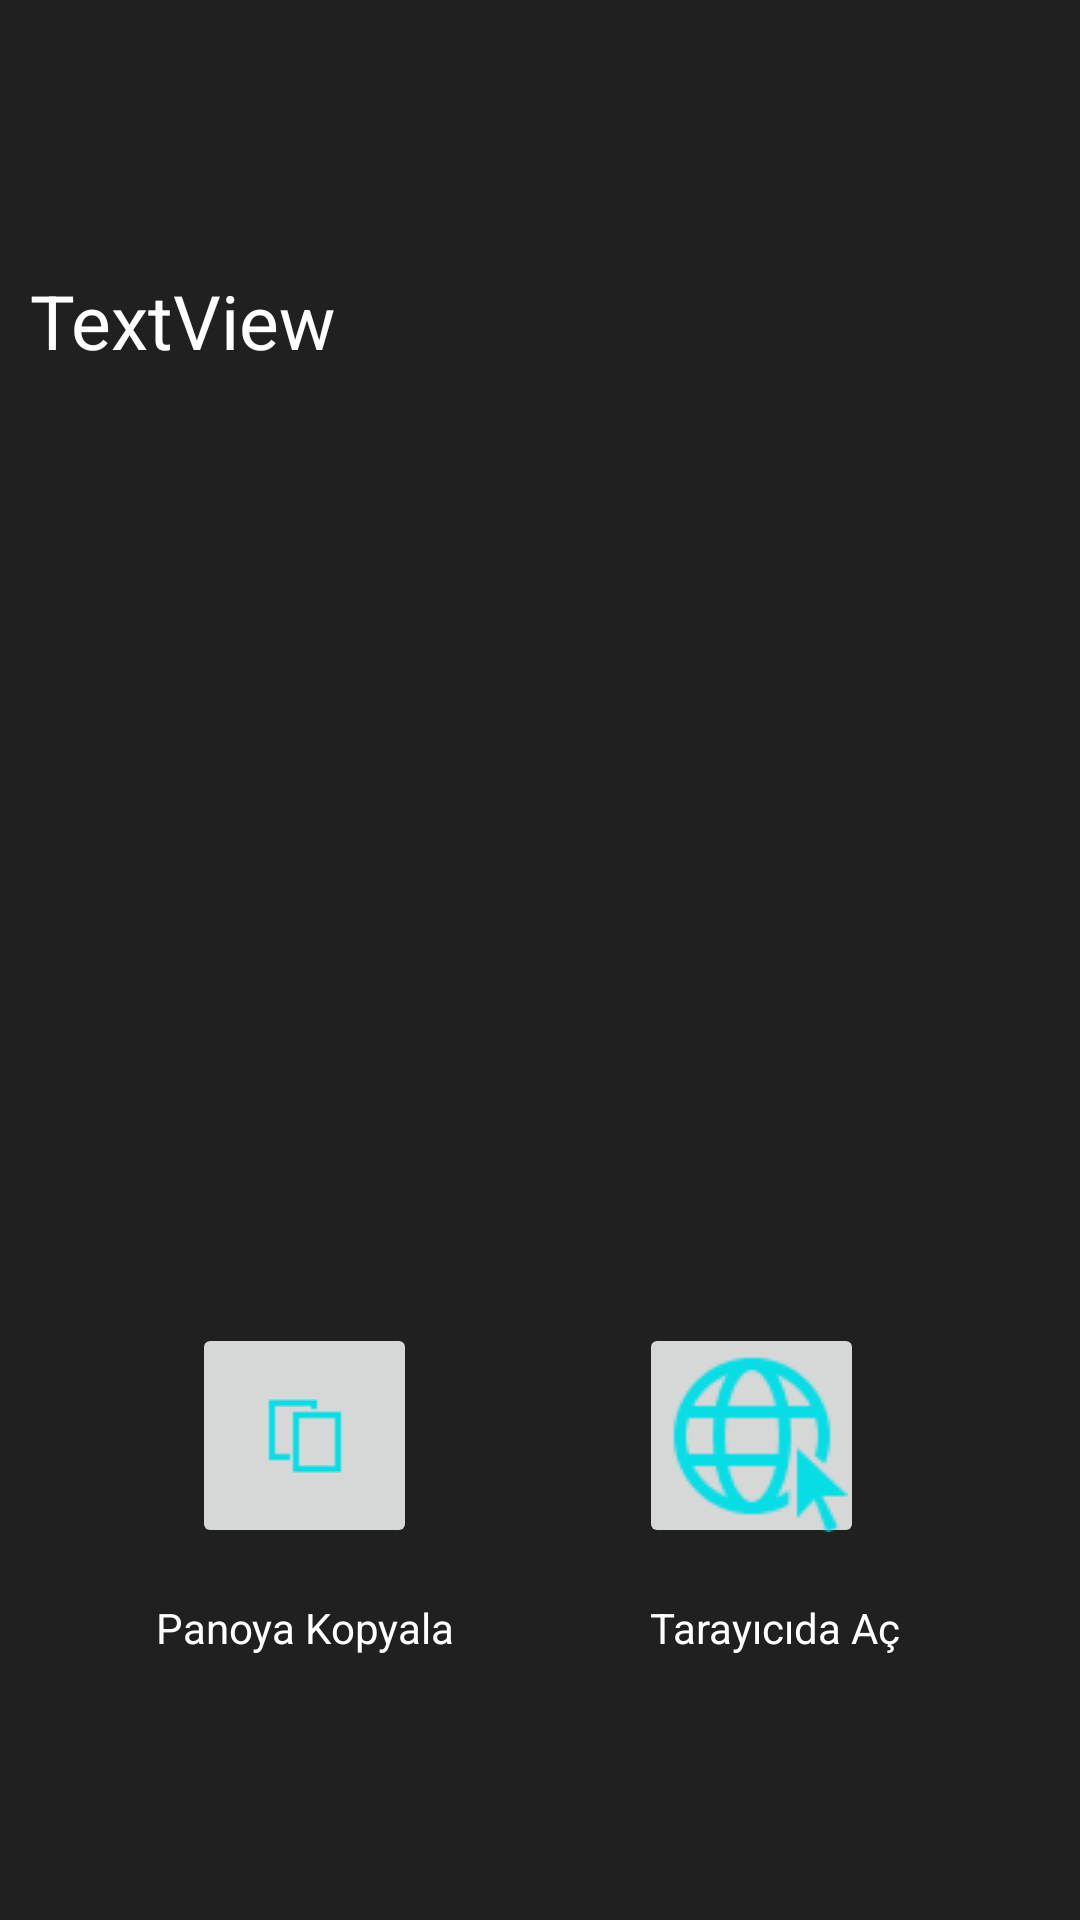

Icon bounding boxes for this 1080*1920 phone screenshot, format bbox=(x1, y1, x2, y2):
internet: bbox=(651, 1341, 852, 1532)
